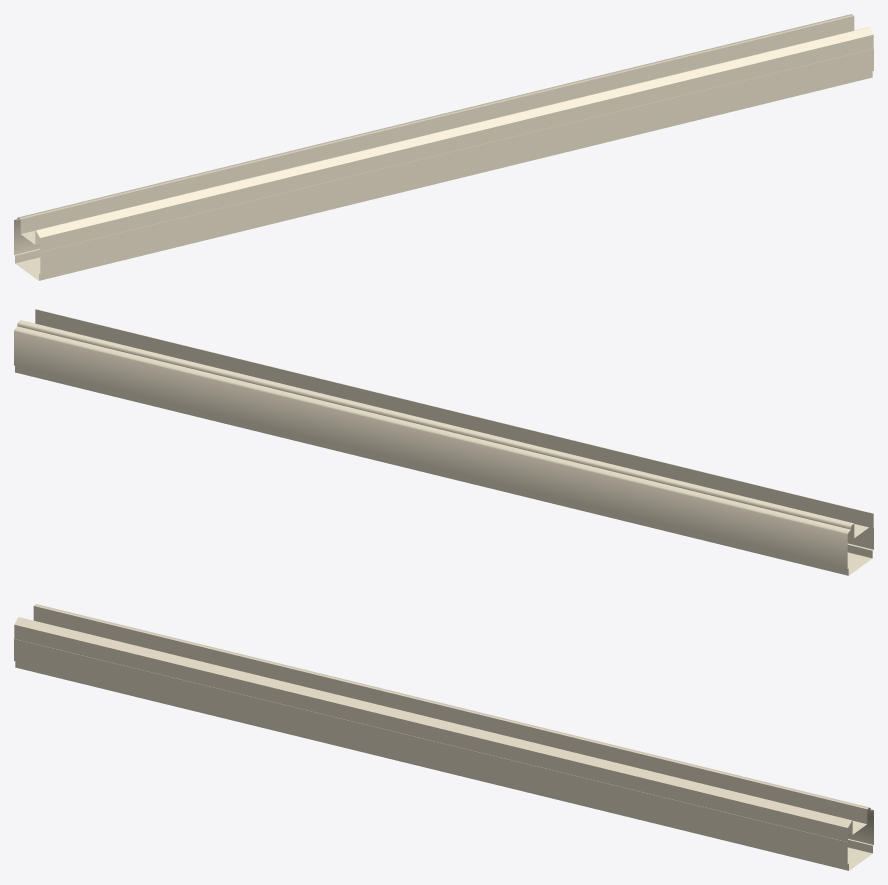
File: original-27.obj
3 views of the same model, one above another, from view 1: azimuth 30°, elevation 25°; view 2: azimuth 150°, elevation 25°; view 3: azimuth 330°, elevation 25° (orthographic).
Parts seen in each view (by area): view 1: TF_BC1/TF_BC/mesh249/mesh249-geometry#mesh249-geometry; view 2: TF_BC1/TF_BC/mesh249/mesh249-geometry#mesh249-geometry; view 3: TF_BC1/TF_BC/mesh249/mesh249-geometry#mesh249-geometry.
Part boxes in pixels (x1,y1,x2,y2): TF_BC1/TF_BC/mesh249/mesh249-geometry#mesh249-geometry: (14, 14, 873, 280); TF_BC1/TF_BC/mesh249/mesh249-geometry#mesh249-geometry: (14, 309, 873, 575); TF_BC1/TF_BC/mesh249/mesh249-geometry#mesh249-geometry: (14, 604, 873, 870).
Bounding box in the file's own units: 0.9267 × 0.0513 × 0.0505.
